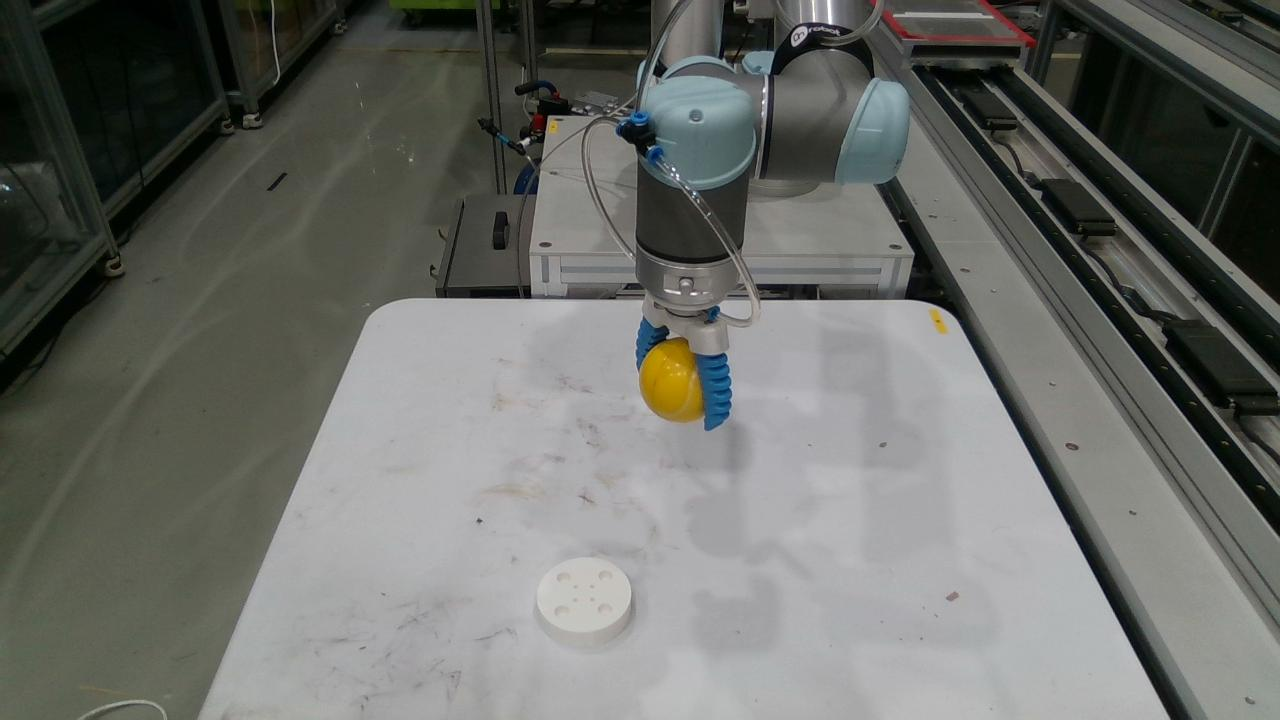UR5: (635, 4, 910, 355)
gripper_left: (636, 316, 669, 370)
gripper_right: (694, 353, 732, 429)
target: (535, 557, 635, 649), (638, 338, 703, 424)
